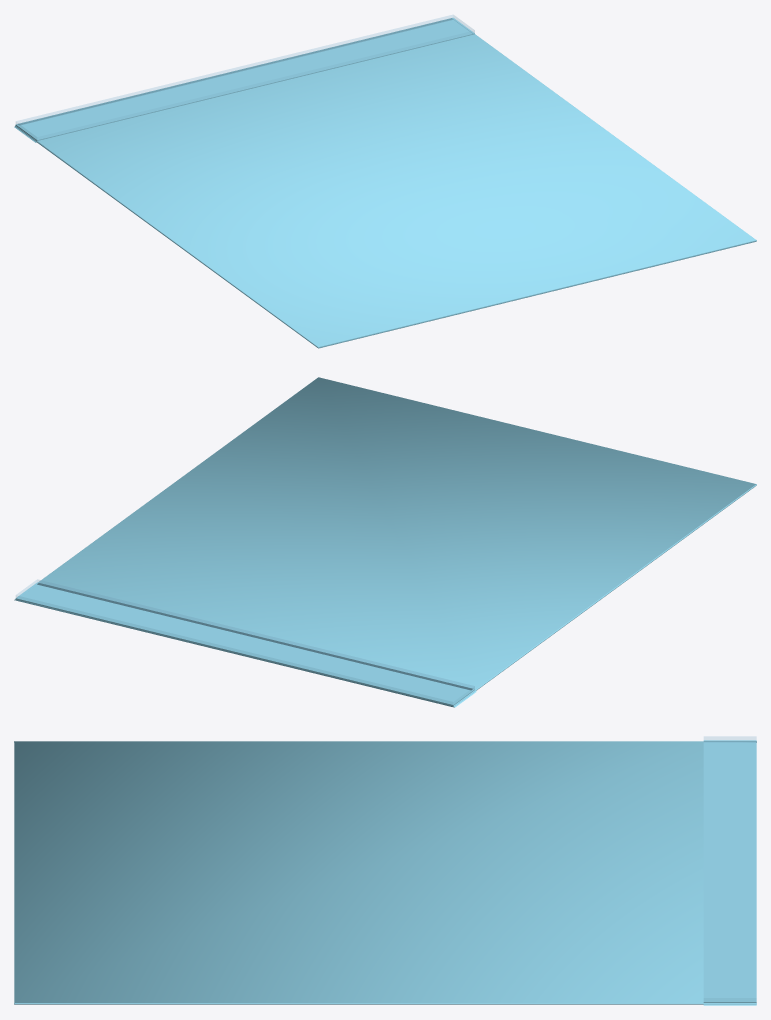
Rendered from dbFrame.fbx.
3 views of the same model, one above another, from view 1: azimuth 30°, elevation 25°; view 2: azimuth 150°, elevation 25°; view 3: azimuth 270°, elevation 25° (orthographic). The views are drawn at different scales.
Parts seen in each view (by area): view 1: ChamferBox001; view 2: ChamferBox001; view 3: ChamferBox001.
Part boxes in pixels (bbox=[...]): ChamferBox001: bbox=[14, 15, 756, 348]; ChamferBox001: bbox=[14, 377, 756, 707]; ChamferBox001: bbox=[14, 736, 756, 1005].
Bounding box in the file's own units: 50.88 × 0.5985 × 60.62.
